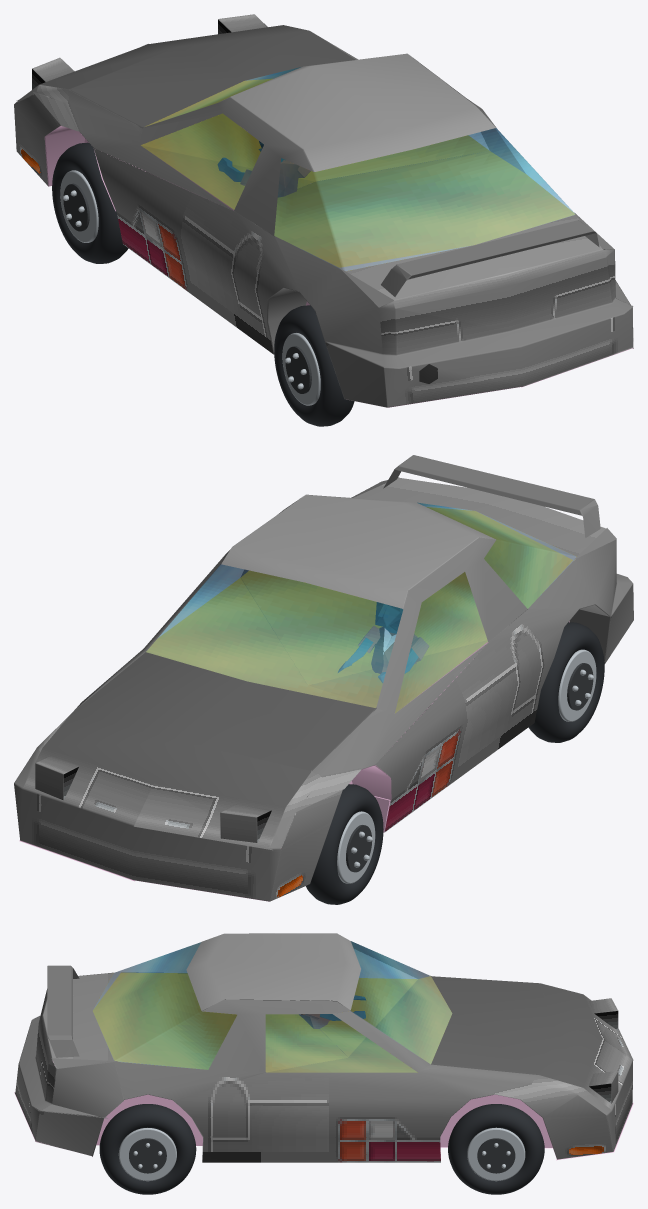
File: car-sportsa.glb
The picture shows the model from 3 angles, top to bottom: view 1: azimuth 30°, elevation 25°; view 2: azimuth 150°, elevation 25°; view 3: azimuth 270°, elevation 25°; orthographic projection. The views are drawn at different scales.
Parts seen in each view (by area): view 1: sportsAShape.001, windShape.002, sportsAShape, Rounded tire.033, Rounded tire.034, Alloy rim.034, Alloy rim.033, Rim recess.066, Rim recess.068; view 2: sportsAShape.001, windShape.002, sportsAShape, Rounded tire.034, Rounded tire.033, Alloy rim.033, Alloy rim.034, Rim recess.066, Rim recess.068; view 3: sportsAShape.001, windShape.002, sportsAShape, Rounded tire.035, Rounded tire.032, Alloy rim.035, Alloy rim.032, Rim recess.065, Rim recess.071.
Part boxes in pixels (x1=…): sportsAShape.001: x1=14, y1=14, x2=633, y2=407; windShape.002: x1=141, y1=67, x2=575, y2=271; sportsAShape: x1=141, y1=79, x2=574, y2=270; Rounded tire.033: x1=274, y1=305, x2=354, y2=426; Rounded tire.034: x1=52, y1=142, x2=128, y2=263; Alloy rim.034: x1=60, y1=170, x2=98, y2=242; Alloy rim.033: x1=282, y1=333, x2=320, y2=405; Rim recess.066: x1=285, y1=346, x2=311, y2=393; Rim recess.068: x1=63, y1=183, x2=89, y2=231; sportsAShape.001: x1=14, y1=455, x2=633, y2=901; windShape.002: x1=146, y1=502, x2=576, y2=713; sportsAShape: x1=146, y1=507, x2=576, y2=712; Rounded tire.034: x1=306, y1=784, x2=383, y2=904; Rounded tire.033: x1=528, y1=622, x2=604, y2=742; Alloy rim.033: x1=558, y1=649, x2=596, y2=721; Alloy rim.034: x1=337, y1=811, x2=375, y2=883; Rim recess.066: x1=567, y1=663, x2=593, y2=710; Rim recess.068: x1=346, y1=825, x2=372, y2=872; sportsAShape.001: x1=14, y1=933, x2=633, y2=1162; windShape.002: x1=93, y1=941, x2=452, y2=1072; sportsAShape: x1=93, y1=973, x2=451, y2=1072; Rounded tire.035: x1=448, y1=1104, x2=544, y2=1194; Rounded tire.032: x1=99, y1=1104, x2=196, y2=1194; Alloy rim.035: x1=467, y1=1127, x2=525, y2=1181; Alloy rim.032: x1=118, y1=1128, x2=176, y2=1181; Rim recess.065: x1=129, y1=1138, x2=166, y2=1173; Rim recess.071: x1=477, y1=1138, x2=515, y2=1173.
Size of the model in its own units: 2.34 by 1.79 by 5.48.
6 materials, 3 textured.
